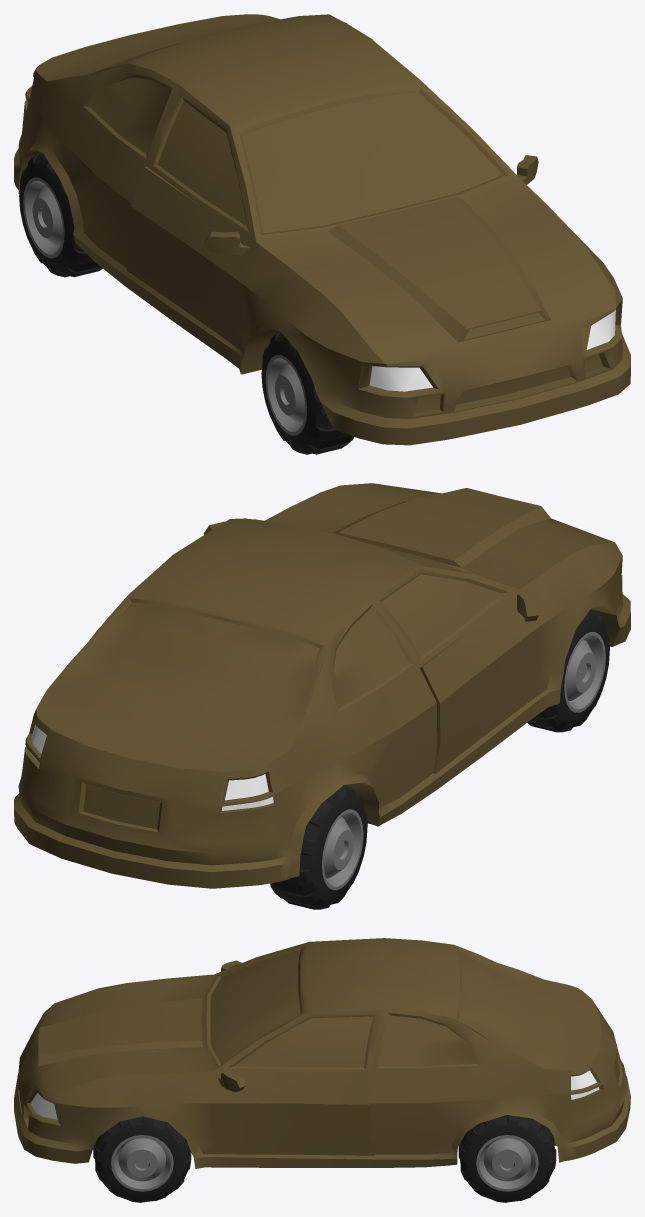
File: citypack-sports-2.glb
3 renders of one model, top to bottom at view 1: azimuth 30°, elevation 25°; view 2: azimuth 150°, elevation 25°; view 3: azimuth 270°, elevation 25°, orthographic. The views are drawn at different scales.
Visible parts, largest first — view 1: body, wheel-front-left, wheel-back-left; view 2: body, wheel-back-left, wheel-front-left; view 3: body, wheel-back-right, wheel-front-right.
Part boxes in pixels (<box>): body: <box>14,14,630,445</box>; wheel-front-left: <box>261,331,353,454</box>; wheel-back-left: <box>19,152,102,277</box>; body: <box>14,483,630,888</box>; wheel-back-left: <box>270,785,367,909</box>; wheel-front-left: <box>527,609,609,732</box>; body: <box>14,938,630,1168</box>; wheel-back-right: <box>458,1115,556,1202</box>; wheel-front-right: <box>93,1116,191,1202</box>.
Bounding box in the file's own units: 2.67 × 1.86 × 5.66.
Materials: 1 (1 with a texture image).
